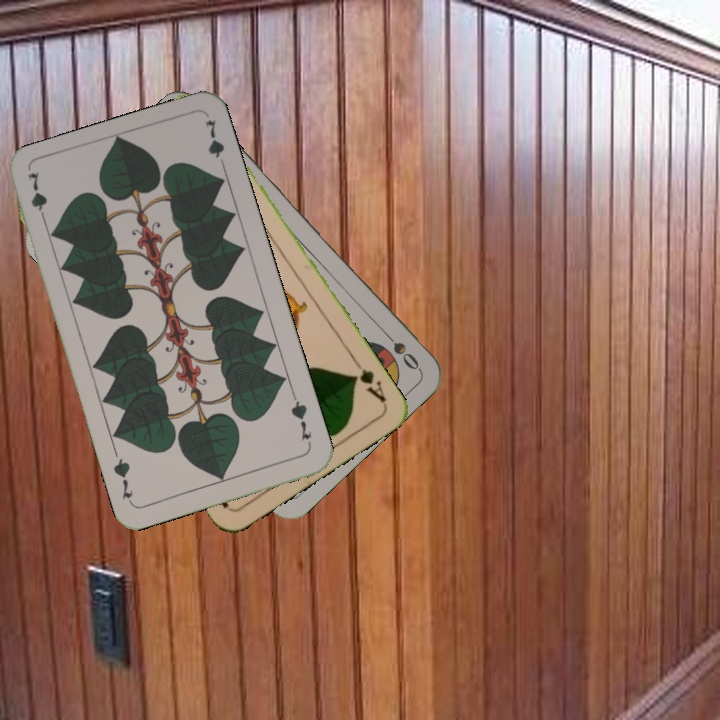G7: (23, 168, 50, 228), (287, 392, 314, 449)
GA: (348, 354, 389, 405)
SO: (377, 324, 422, 373)
